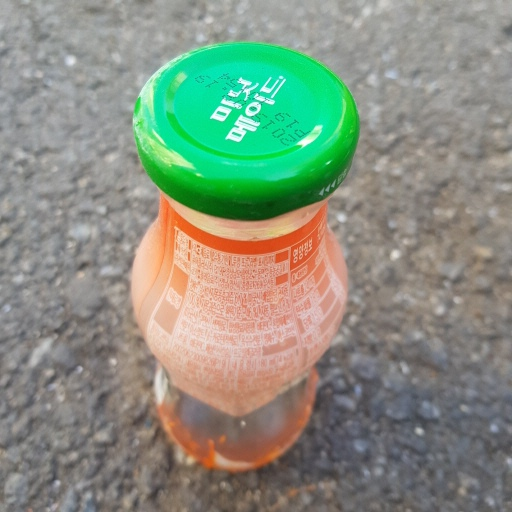Glass_4: (127, 43, 360, 472)
